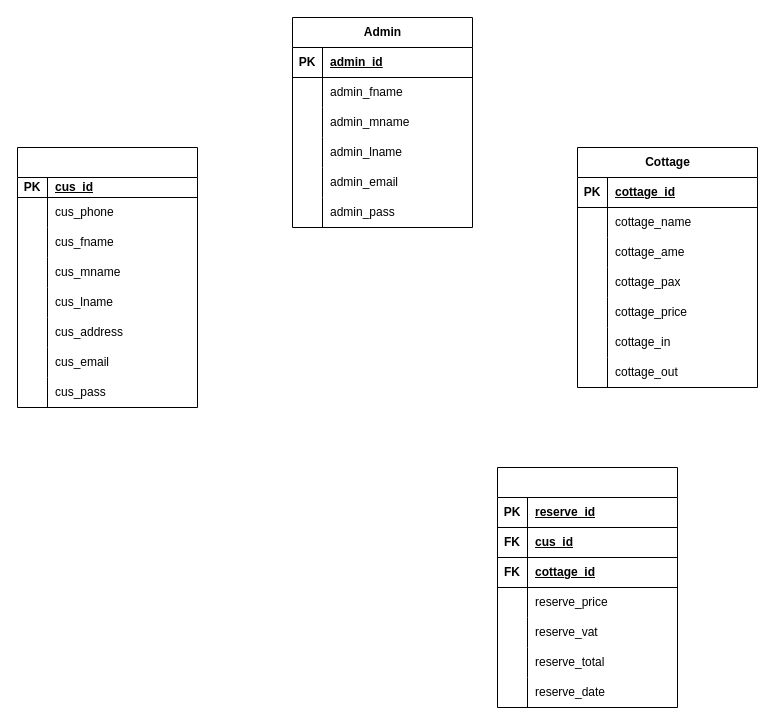
This 775x725 diagram has some shape labels left out. The box of each missing label's shape, as (x1, y1, x2, y2) in pixels:
Customer: (16, 146, 198, 408)
Reservation: (496, 466, 678, 708)
